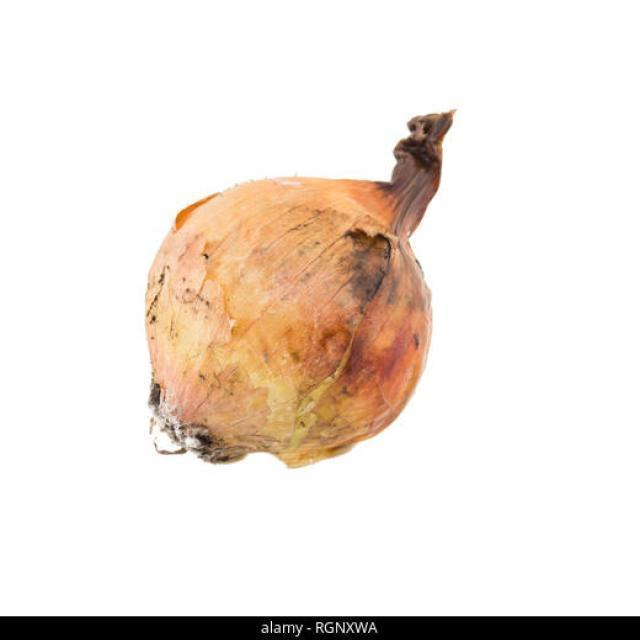Onion: (144, 109, 458, 468)
